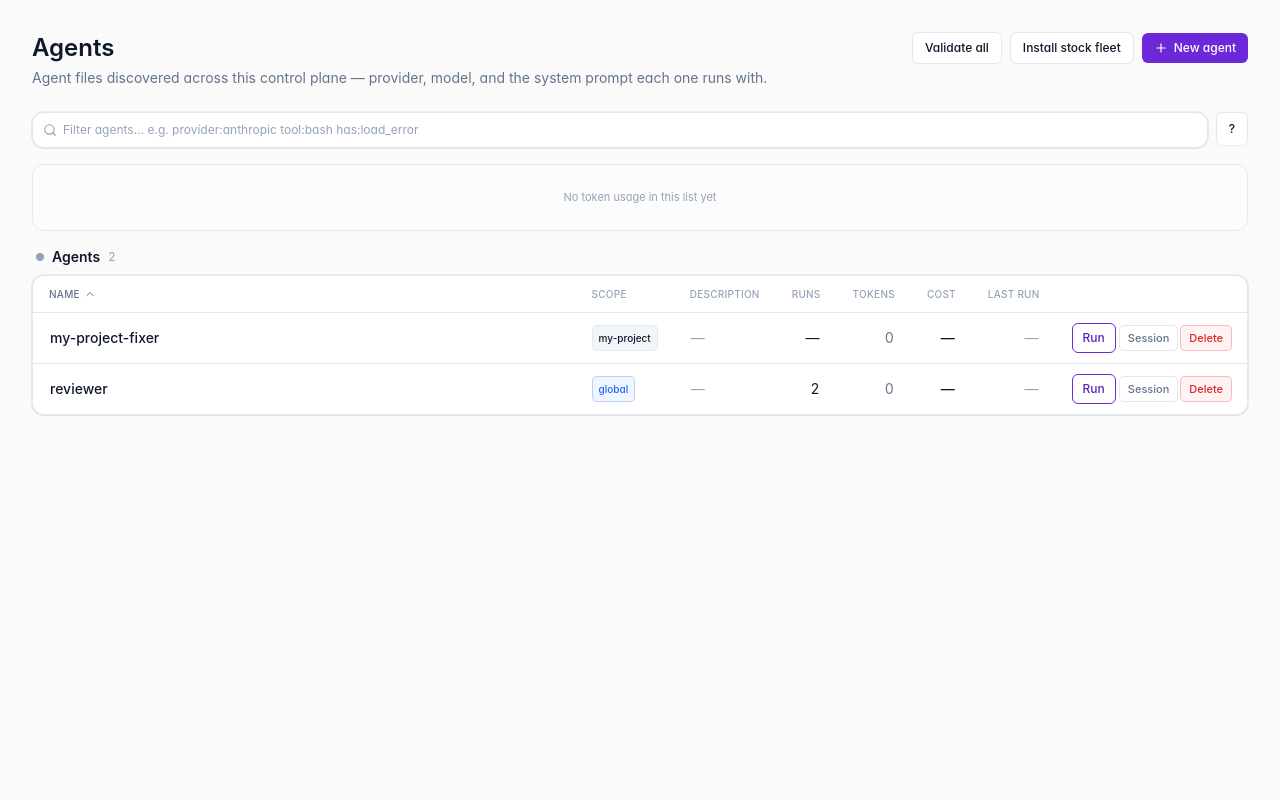
Test: Agents header: Validate all and Install stock fleet (Plan 3b) › opens the validation drawer and the fleet dialog
Click the button "Validate all": (957, 48) [912,32,1002,64]
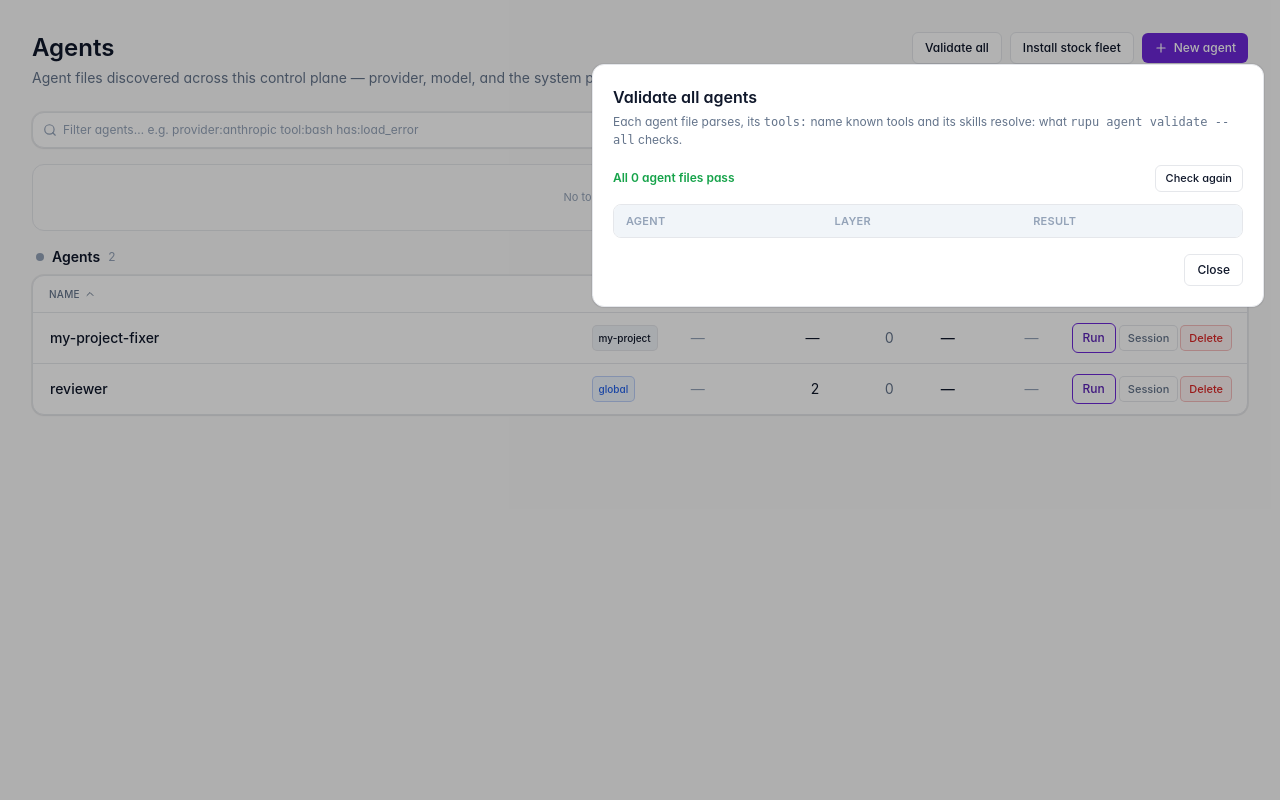
Expected: the dialog "Validate all agents" is shown, [592,64,1264,307]
Click the button "Close": (1214, 270) [1184,254,1243,286]
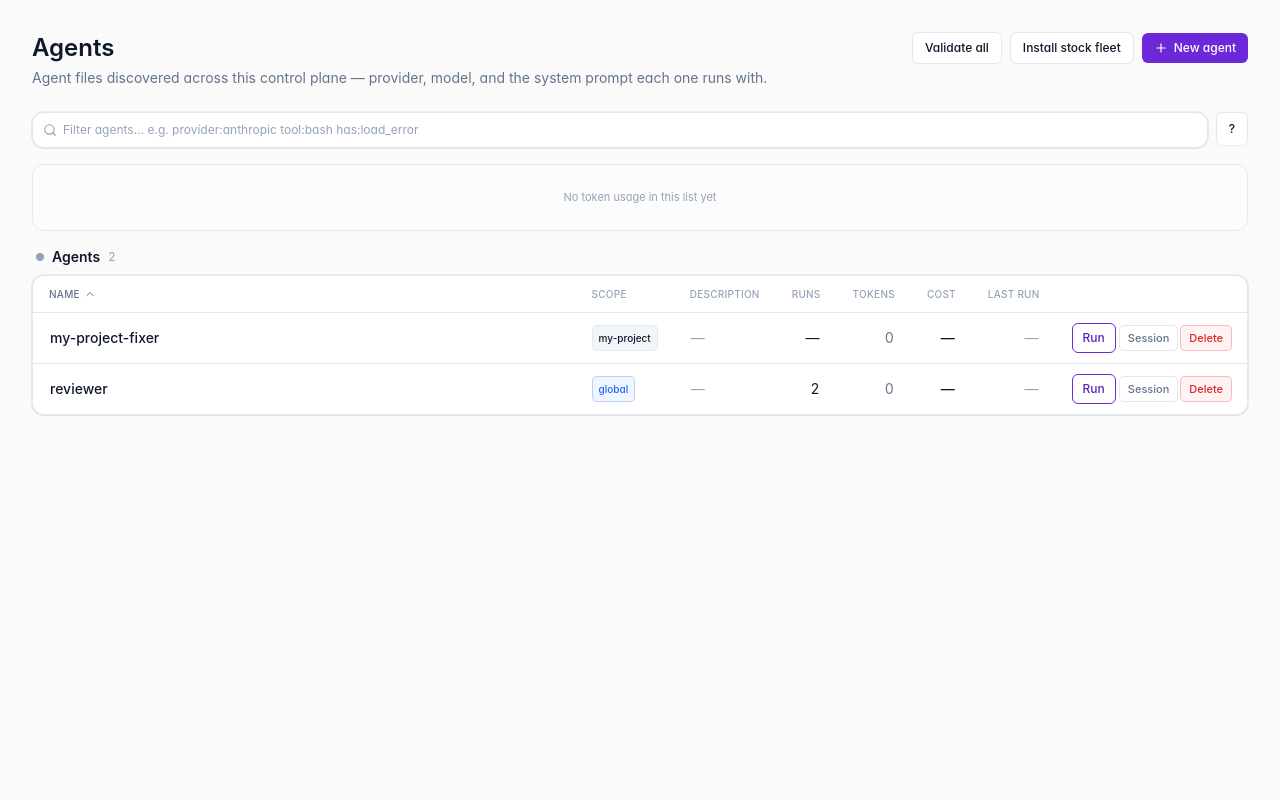
Click the button "Install stock fleet": (1072, 48) [1010,32,1134,64]
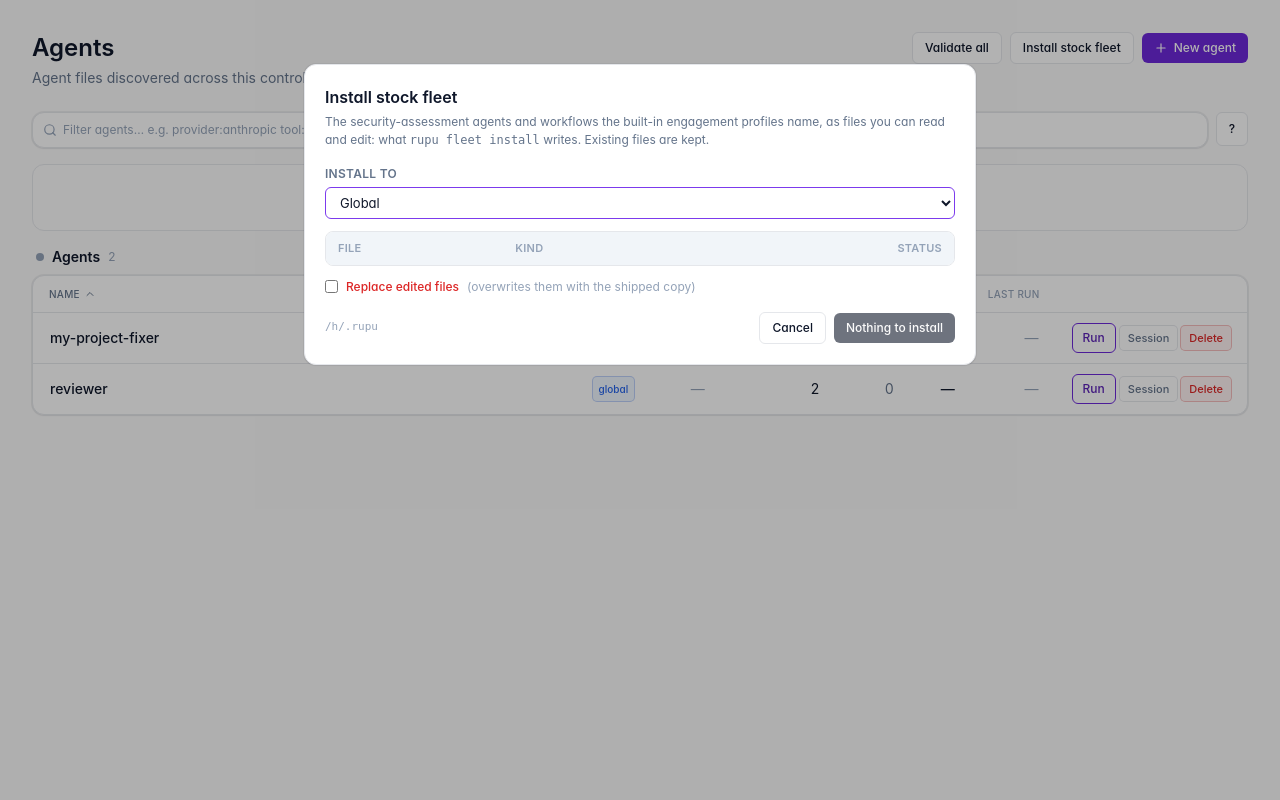
Expected: the dialog "Install stock fleet" is shown, [304,64,976,364]
